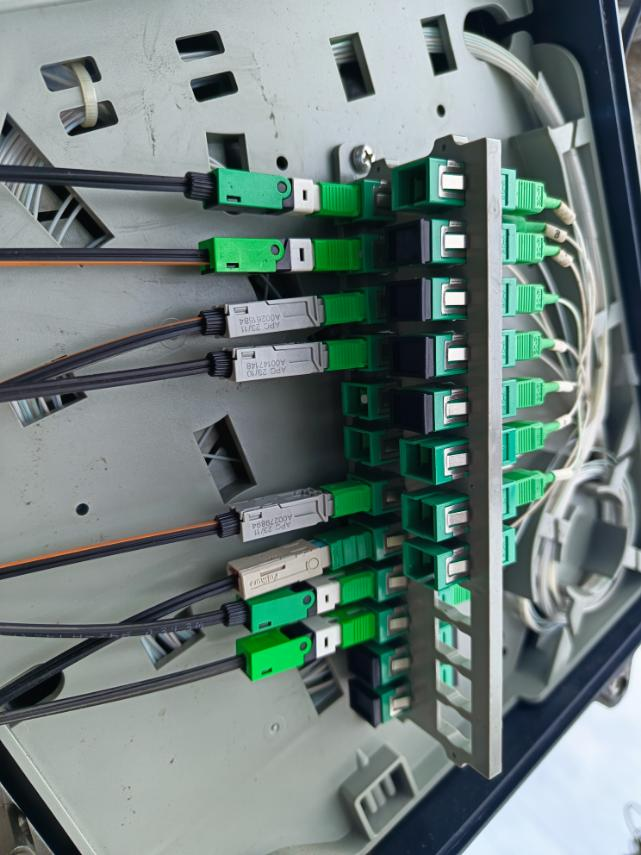no dust cap: (391, 158, 429, 206), (400, 441, 435, 484), (403, 547, 437, 590), (401, 497, 435, 540), (342, 383, 371, 419), (344, 426, 370, 464)
no port: (436, 700, 474, 755), (434, 659, 472, 714), (432, 615, 470, 670), (433, 573, 471, 628)
occupied: (234, 597, 374, 685), (230, 520, 374, 600), (185, 162, 361, 224), (214, 476, 374, 543), (242, 562, 378, 634), (196, 287, 367, 342), (195, 234, 366, 277), (207, 338, 364, 384)
vacant: (391, 332, 429, 376), (384, 278, 422, 322), (384, 220, 422, 264), (391, 392, 424, 433), (346, 646, 376, 691), (349, 681, 378, 727)
